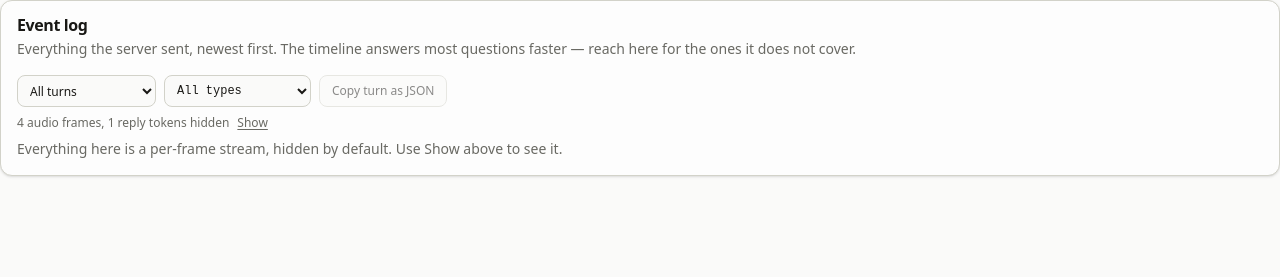
EventLog › filters to one type, and asking for a per-frame type overrides the default hide
Select "tts_chunk (4)" in the dropdown named "Filter by message type" at (238, 91), box [164,75,311,107]
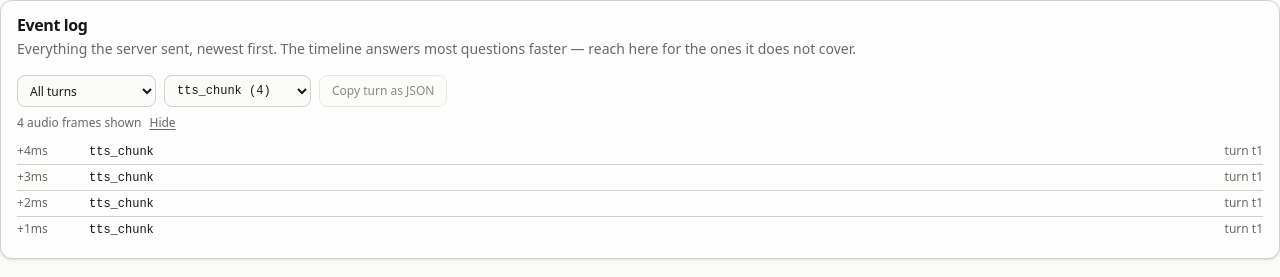
Result: the number of list items with test id "event-row" is 4 at [17,139,1263,165]; [17,165,1263,191]; [17,191,1263,217]; [17,217,1263,242]
